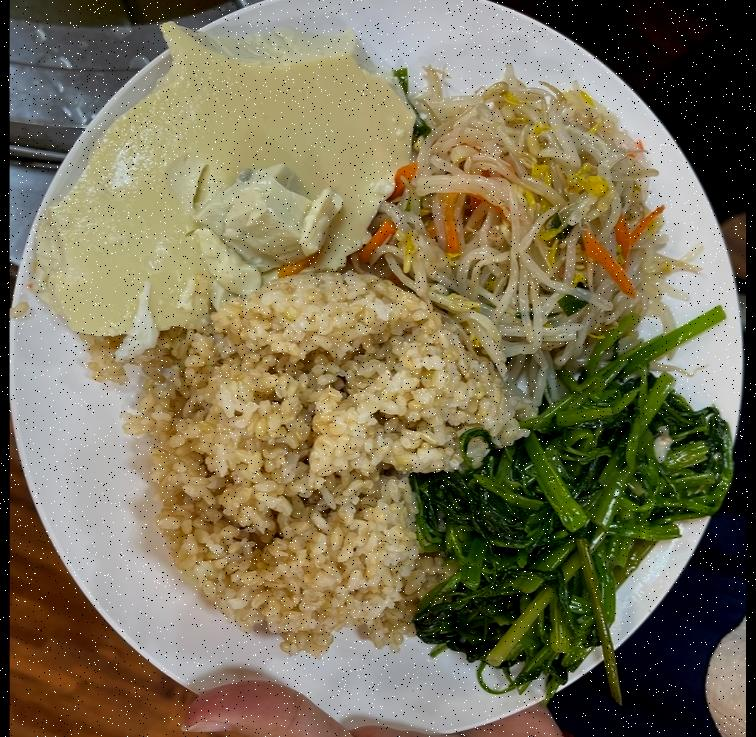brown rice: (145, 266, 510, 651)
plate: (9, 0, 736, 737)
side dish: (29, 37, 416, 352), (419, 353, 731, 694), (381, 83, 662, 365)
